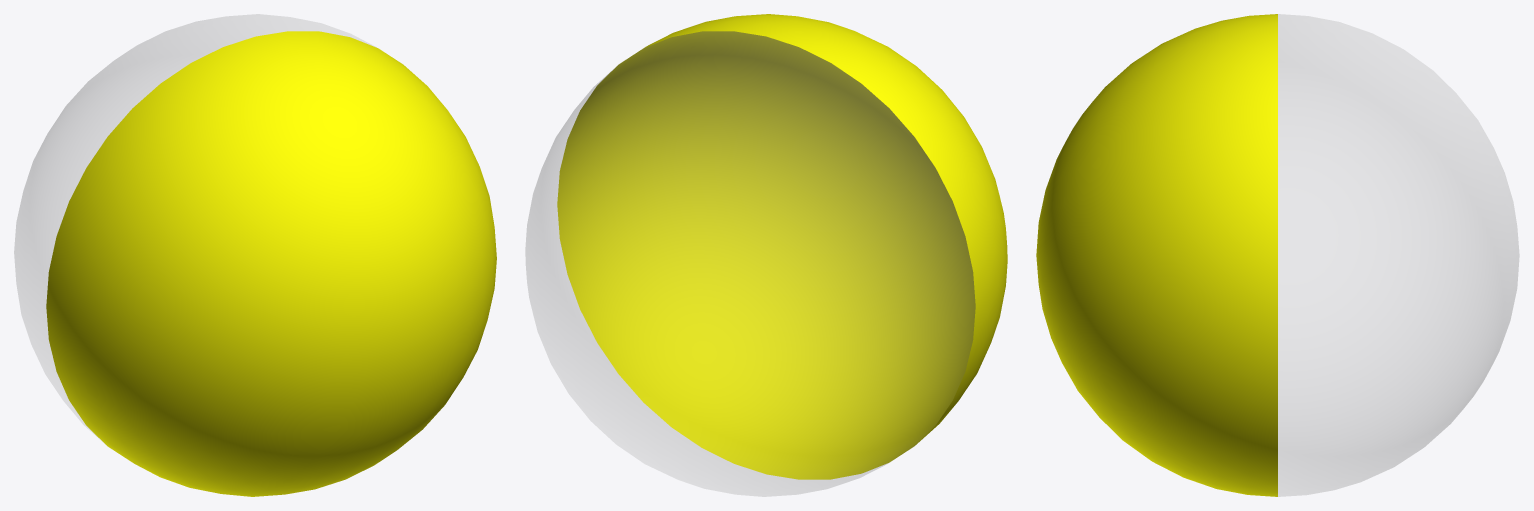
Rendered from ball-yellow.glb.
The picture shows the model from 3 angles, left to right: view 1: azimuth 30°, elevation 25°; view 2: azimuth 150°, elevation 25°; view 3: azimuth 270°, elevation 25°; orthographic projection.
Parts seen in each view (by area): view 1: ball.001; view 2: ball.001; view 3: ball.001.
Boxes of the visible parts, <box> form: ball.001: <box>14,14,496,496</box>; ball.001: <box>525,14,1007,496</box>; ball.001: <box>1036,14,1519,496</box>.
Size of the model in its own units: 0.3 by 0.3 by 0.3.
